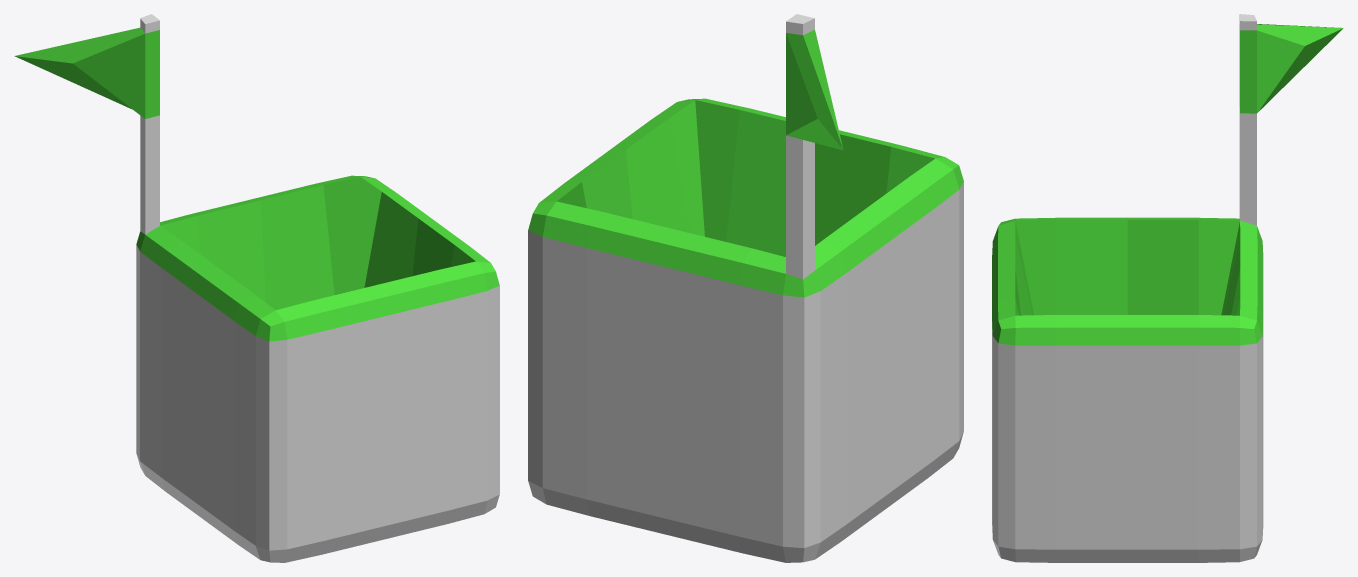
Rendered from goalcube.fbx.
The picture shows the model from 3 angles, left to right: view 1: azimuth 30°, elevation 25°; view 2: azimuth 150°, elevation 25°; view 3: azimuth 270°, elevation 25°; orthographic projection. The views are drawn at different scales.
Parts seen in each view (by area): view 1: goalcube; view 2: goalcube; view 3: goalcube.
Boxes of the visible parts, x1=… form: goalcube: x1=14, y1=14, x2=499, y2=562; goalcube: x1=528, y1=14, x2=963, y2=562; goalcube: x1=992, y1=14, x2=1343, y2=562.
Bounding box in the file's own units: 258 × 360 × 258.
